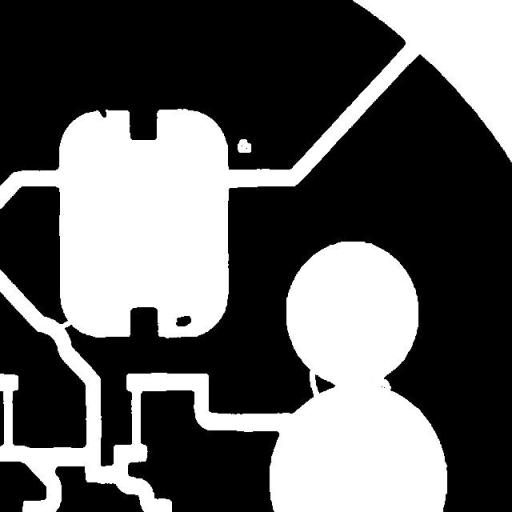copper: (168, 308, 198, 334)
mousebite: (366, 369, 398, 397)
open: (302, 362, 326, 406), (48, 310, 80, 336)
pin-hole: (230, 131, 258, 160)
spur: (86, 98, 114, 124)
